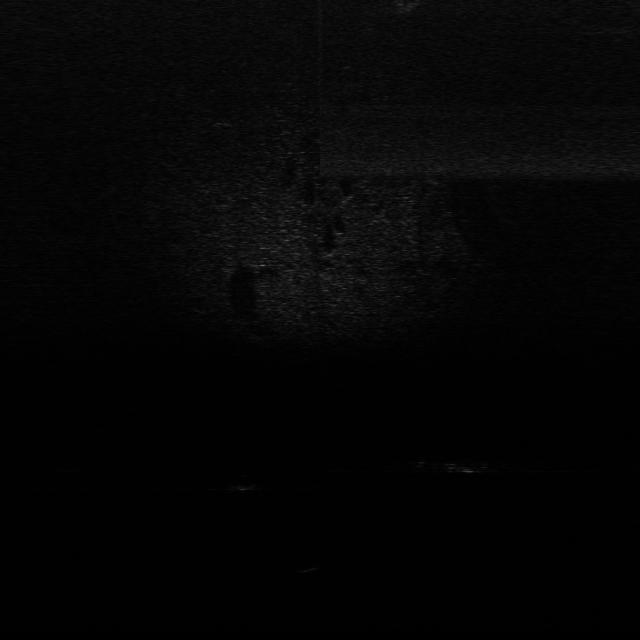ball: (226, 471, 264, 495)
circle cage: (300, 560, 338, 585)
human body: (398, 455, 520, 478)
